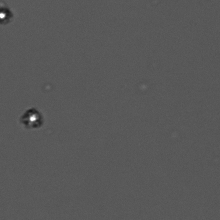Living Cell: (21, 105, 45, 131), (1, 5, 14, 26)
